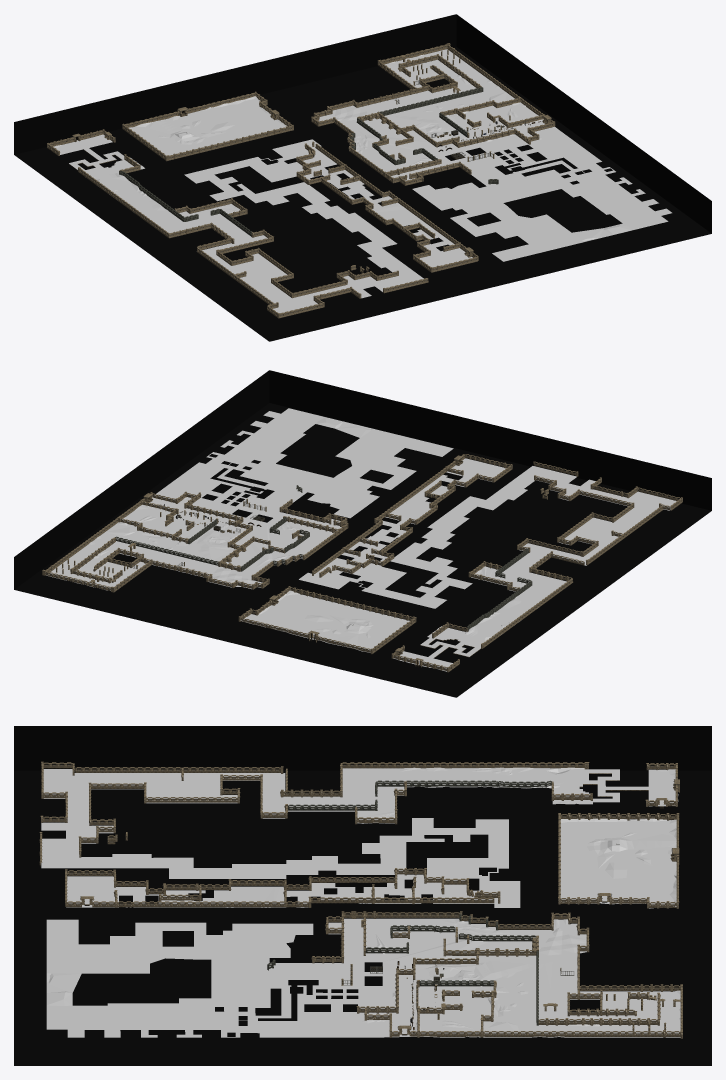
File: dixiachengdixing_001.FBX
3 views of the same model, one above another, from view 1: azimuth 30°, elevation 25°; view 2: azimuth 150°, elevation 25°; view 3: azimuth 270°, elevation 25° (orthographic). The views are drawn at different scales.
Visible parts, largest first — view 1: heidi_001, dixiachengdixing_001, dixiacheng_03, Object030, Object015; view 2: heidi_001, dixiachengdixing_001, dixiacheng_03, Object030; view 3: heidi_001, dixiachengdixing_001, dixiacheng_03, SMDImport142, Object030, SMDImport394, SMDImport487, SMDImport156, SMDImport540, SMDImport189, SMDImport537, Object069 (+2 smaller).
Boxes of the visible parts, x1=… form: heidi_001: x1=14, y1=14, x2=711, y2=341; dixiachengdixing_001: x1=53, y1=49, x2=671, y2=313; dixiacheng_03: x1=122, y1=91, x2=293, y2=161; Object030: x1=348, y1=146, x2=441, y2=185; Object015: x1=379, y1=87, x2=483, y2=115; heidi_001: x1=14, y1=370, x2=711, y2=697; dixiachengdixing_001: x1=46, y1=408, x2=676, y2=671; dixiacheng_03: x1=238, y1=586, x2=416, y2=654; Object030: x1=283, y1=513, x2=348, y2=560; heidi_001: x1=14, y1=726, x2=711, y2=1065; dixiachengdixing_001: x1=41, y1=767, x2=680, y2=1037; dixiacheng_03: x1=558, y1=813, x2=679, y2=908; SMDImport142: x1=483, y1=1030, x2=680, y2=1037; Object030: x1=325, y1=911, x2=462, y2=955; SMDImport394: x1=117, y1=901, x2=285, y2=907; SMDImport487: x1=374, y1=897, x2=494, y2=903; SMDImport156: x1=538, y1=1018, x2=657, y2=1025; SMDImport540: x1=75, y1=767, x2=181, y2=772; SMDImport189: x1=580, y1=984, x2=680, y2=991; SMDImport537: x1=182, y1=767, x2=280, y2=772; Object069: x1=462, y1=780, x2=551, y2=788.
Bounding box in the file's own units: 33138 × 2342 × 33121.
